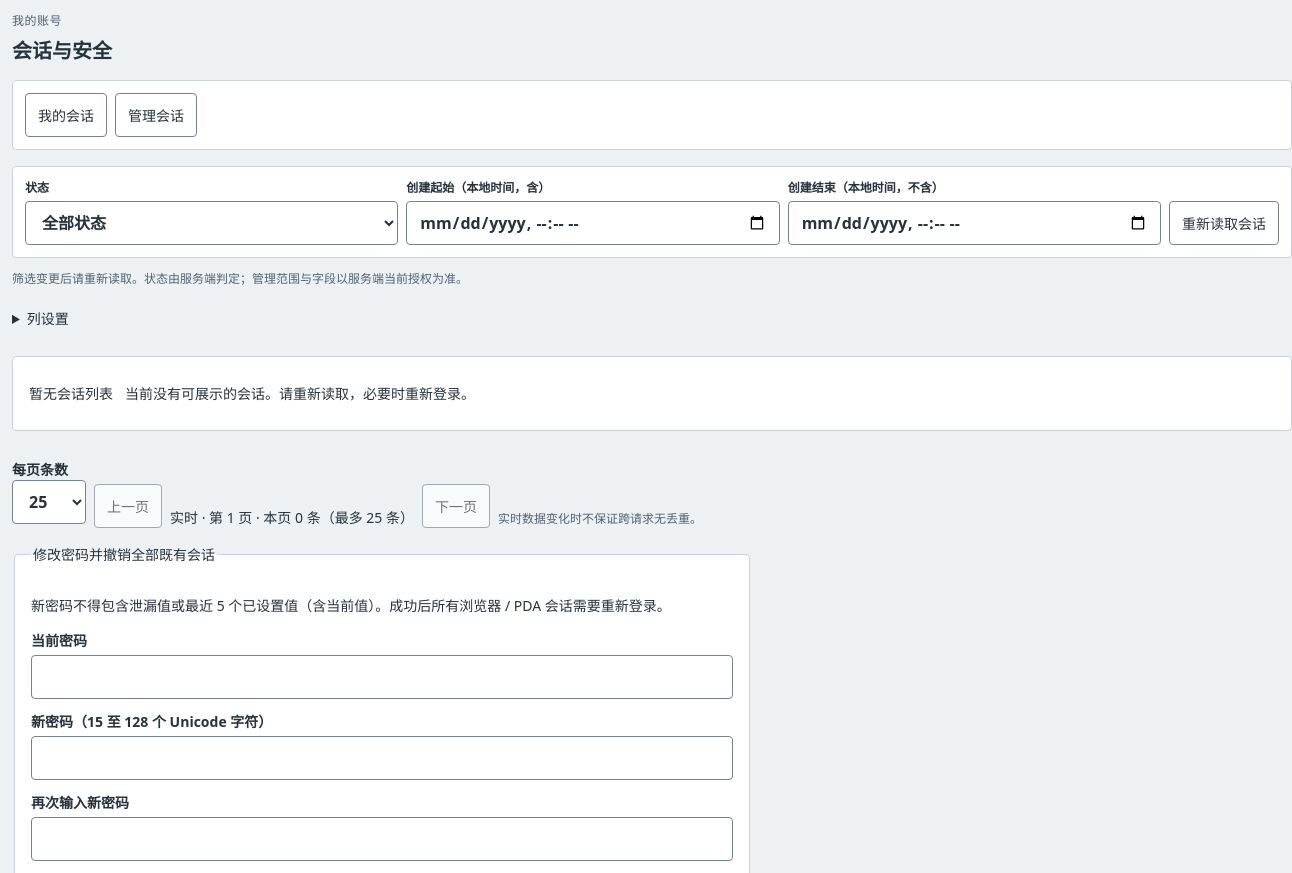
drops a projected admin page on denied refresh instead of retaining sensitive rows
Click the button with test id "admin-tab": (156,115) [115,93,197,137]
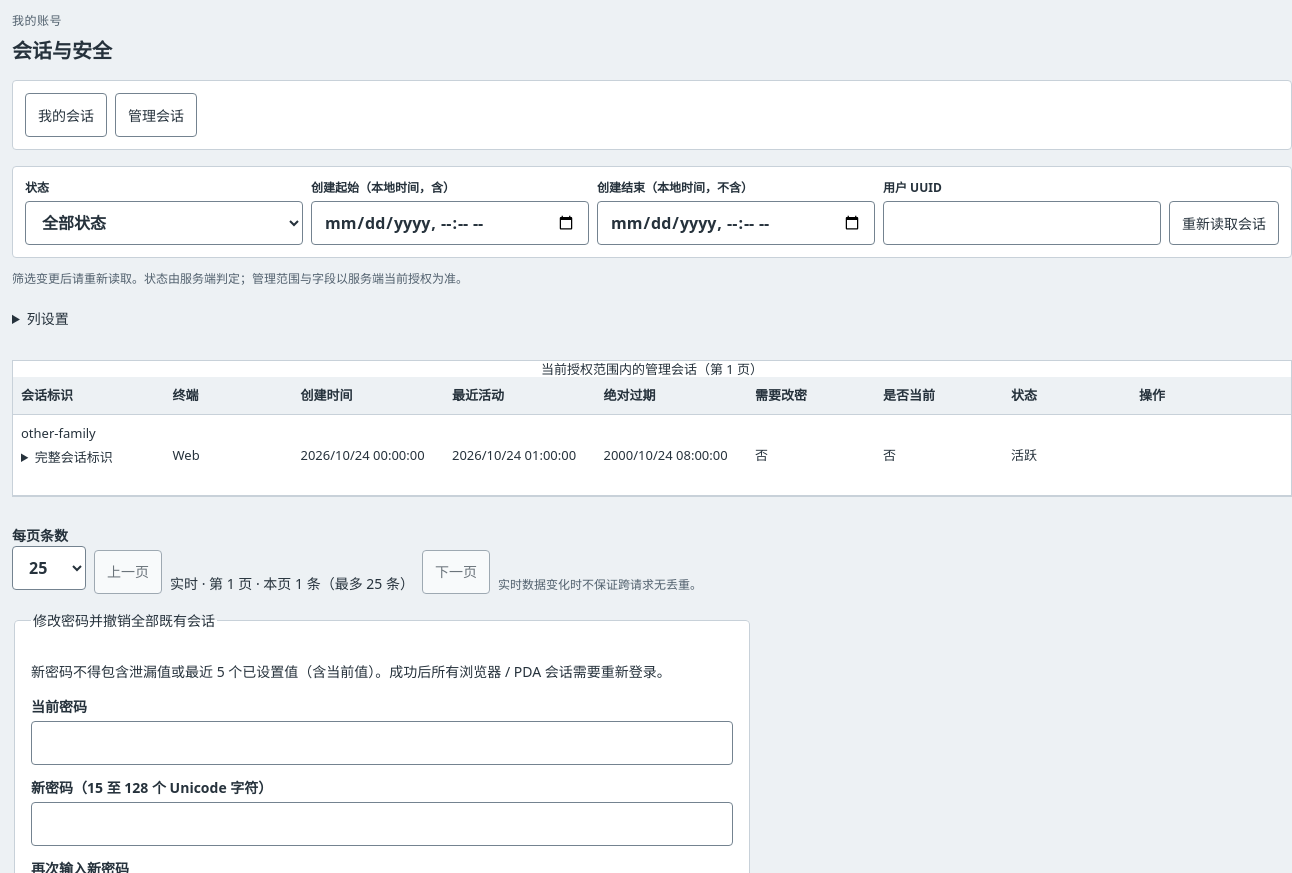
expect the row that starts with "other-family" is shown: met, box [13,414,1291,495]
Click the button with test id "reload": (1224,223) [1169,201,1279,245]
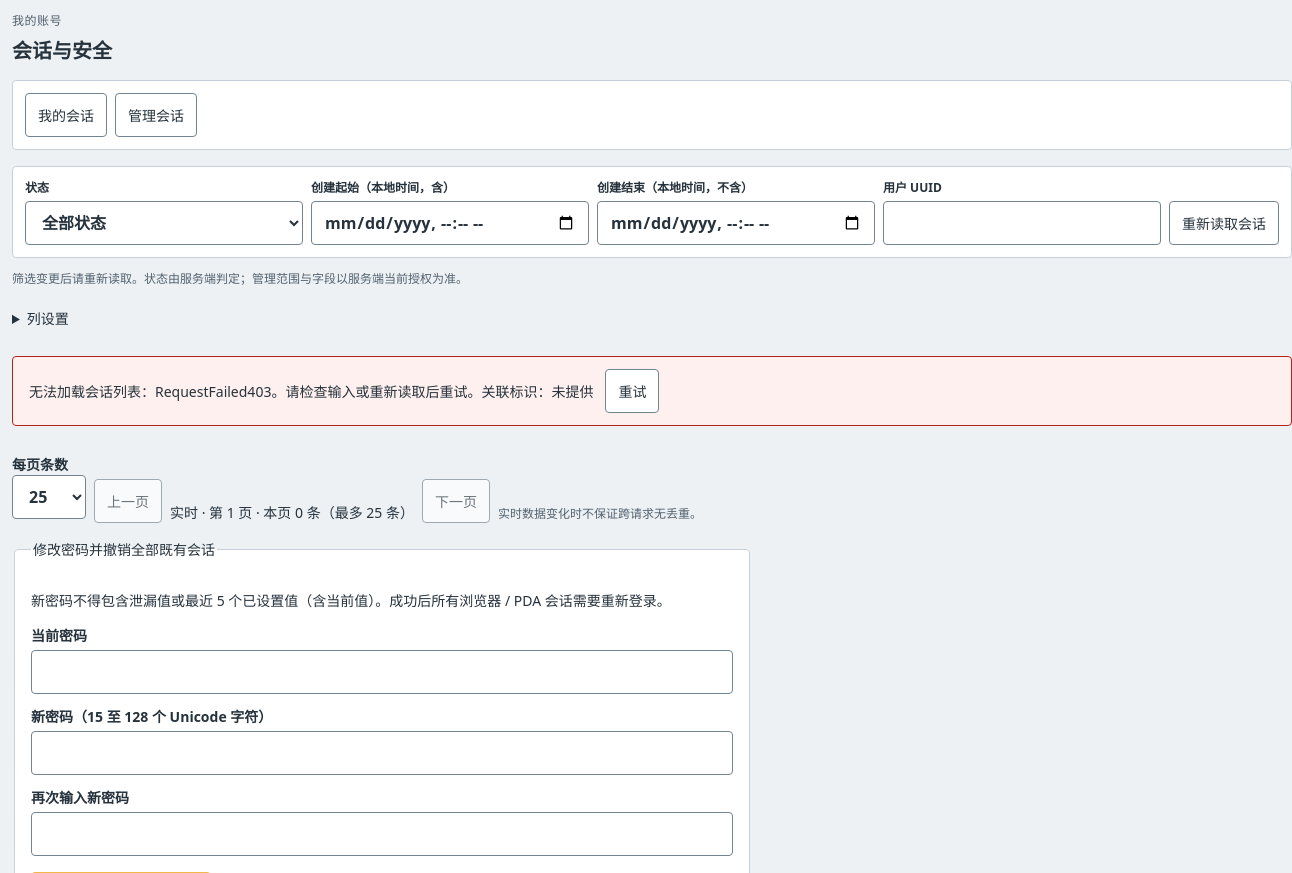
expect the message shows "403": met, box [12,356,1291,426]
